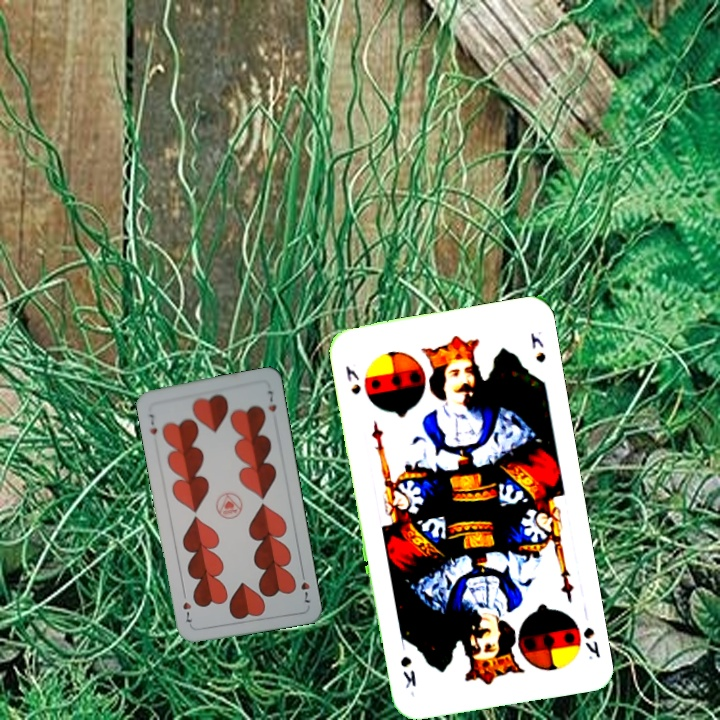H7: (297, 567, 312, 606), (145, 410, 160, 437)
SK: (579, 623, 603, 662), (341, 362, 363, 397)
